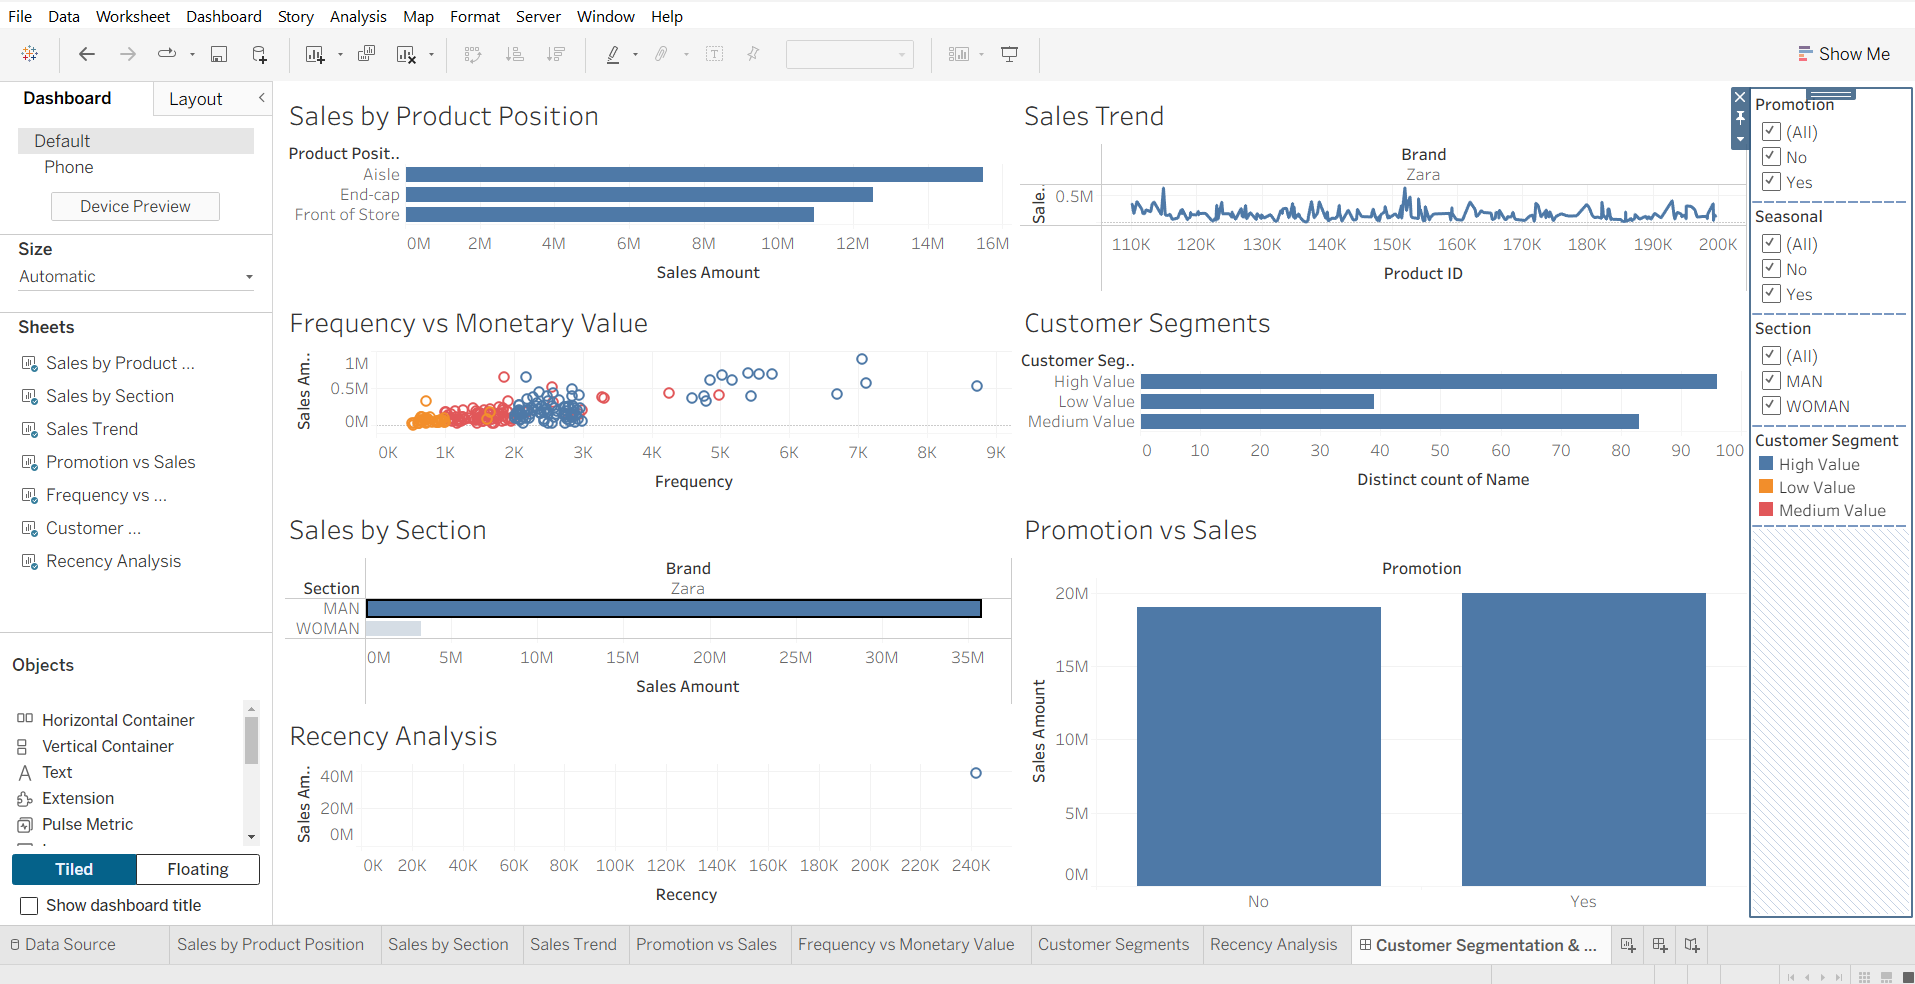

Layout of this report page (visuals, bound fields, positions):
{"tool":"tableau","page":{"name":"Customer Segmentation & Behavior Analysis","canvas":[1000,1000],"units":"permille","ordinal":0},"visuals":[{"type":"worksheet","title":"Sales by Product Position","mark":"Automatic","rows":["Product Position"],"cols":["Calculation_1350802055417856"],"box":[4.9,9.5,446.5,245.3]},{"type":"worksheet","title":"Sales Trend","mark":"Automatic","rows":["Calculation_1350802055417856"],"cols":["scraped_at"],"box":[451.4,9.5,446.5,245.3]},{"type":"filter","title":"Sales by Product Position","param":"[federated.0i7n7kv1w2234i1biycep0itdbj5].[none:Promotion:nk]","box":[897.9,9.5,97.2,132.9]},{"type":"filter","title":"Sales by Section","param":"[federated.0i7n7kv1w2234i1biycep0itdbj5].[none:Seasonal:nk]","box":[897.9,142.3,97.2,132.9]},{"type":"worksheet","title":"Frequency vs Monetary Value","mark":"Automatic","rows":["Calculation_1350802055417856"],"cols":["Calculation_1350802060550145"],"box":[4.9,254.8,446.5,245.2]},{"type":"worksheet","title":"Customer Segments","mark":"Automatic","rows":["Calculation_1350802062274563"],"cols":["name"],"box":[451.4,254.8,446.5,245.2]},{"type":"filter","title":"Sales by Section","param":"[federated.0i7n7kv1w2234i1biycep0itdbj5].[none:section:nk]","box":[897.9,275.2,97.2,132.9]},{"type":"legend","title":"Frequency vs Monetary Value","param":"[federated.0i7n7kv1w2234i1biycep0itdbj5].[none:Calculation_1350802062274563:nk]","box":[897.9,408.1,97.2,118.6]},{"type":"worksheet","title":"Sales by Section","mark":"Automatic","rows":["section"],"cols":["brand","Calculation_1350802055417856"],"box":[4.9,500,446.5,245.3]},{"type":"worksheet","title":"Promotion vs Sales","mark":"Automatic","rows":["Calculation_1350802055417856"],"cols":["Promotion"],"box":[451.4,500,446.5,490.5]},{"type":"worksheet","title":"Recency Analysis","mark":"Automatic","rows":["Calculation_1350802055417856"],"cols":["Calculation_1350802060693506"],"box":[4.9,745.3,446.5,245.2]}]}

Visuals, with their boxes on the dashboard's canvas, which has no fixed pixel size, in thousandths of its width and height (x1, y1, x2, y2). These are canvas units, not pixel positions in the 1915x984 screenshot, which may show the page scaled, cropped or inside an application window:
"Sales by Product Position" worksheet: box=[5, 10, 451, 255]
"Sales Trend" worksheet: box=[451, 10, 898, 255]
"Sales by Product Position" filter: box=[898, 10, 995, 142]
"Sales by Section" filter: box=[898, 142, 995, 275]
"Frequency vs Monetary Value" worksheet: box=[5, 255, 451, 500]
"Customer Segments" worksheet: box=[451, 255, 898, 500]
"Sales by Section" filter: box=[898, 275, 995, 408]
"Frequency vs Monetary Value" legend: box=[898, 408, 995, 527]
"Sales by Section" worksheet: box=[5, 500, 451, 745]
"Promotion vs Sales" worksheet: box=[451, 500, 898, 990]
"Recency Analysis" worksheet: box=[5, 745, 451, 990]
